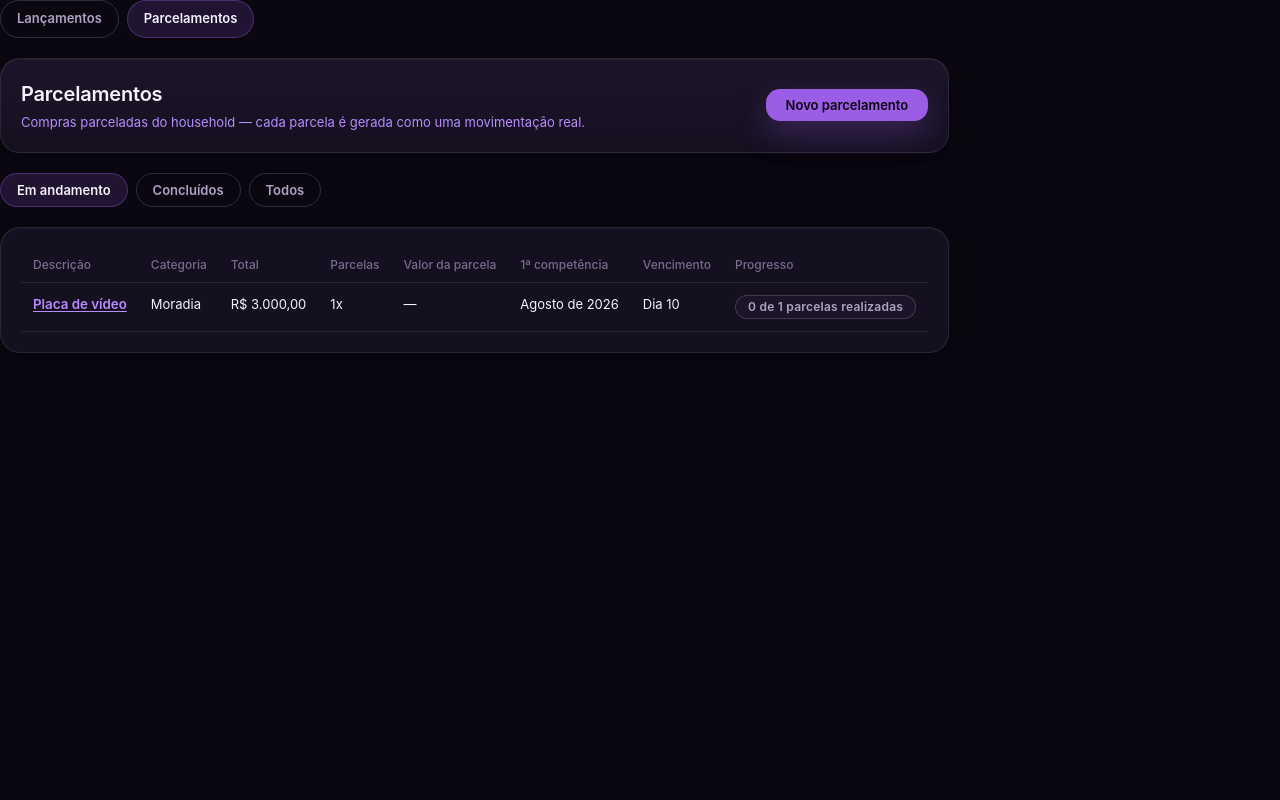
Test case: InstallmentPlansPage — realizar parcela a partir do detalhe do parcelamento (integração Parcelamentos ↔ Lançamentos) › parcela de competência diferente da atualmente exibida (setembro, com a página em julho) pode ser realizada normalmente
Click the button "Placa de vídeo". click: click(80, 304)
box: [33,296,127,312]
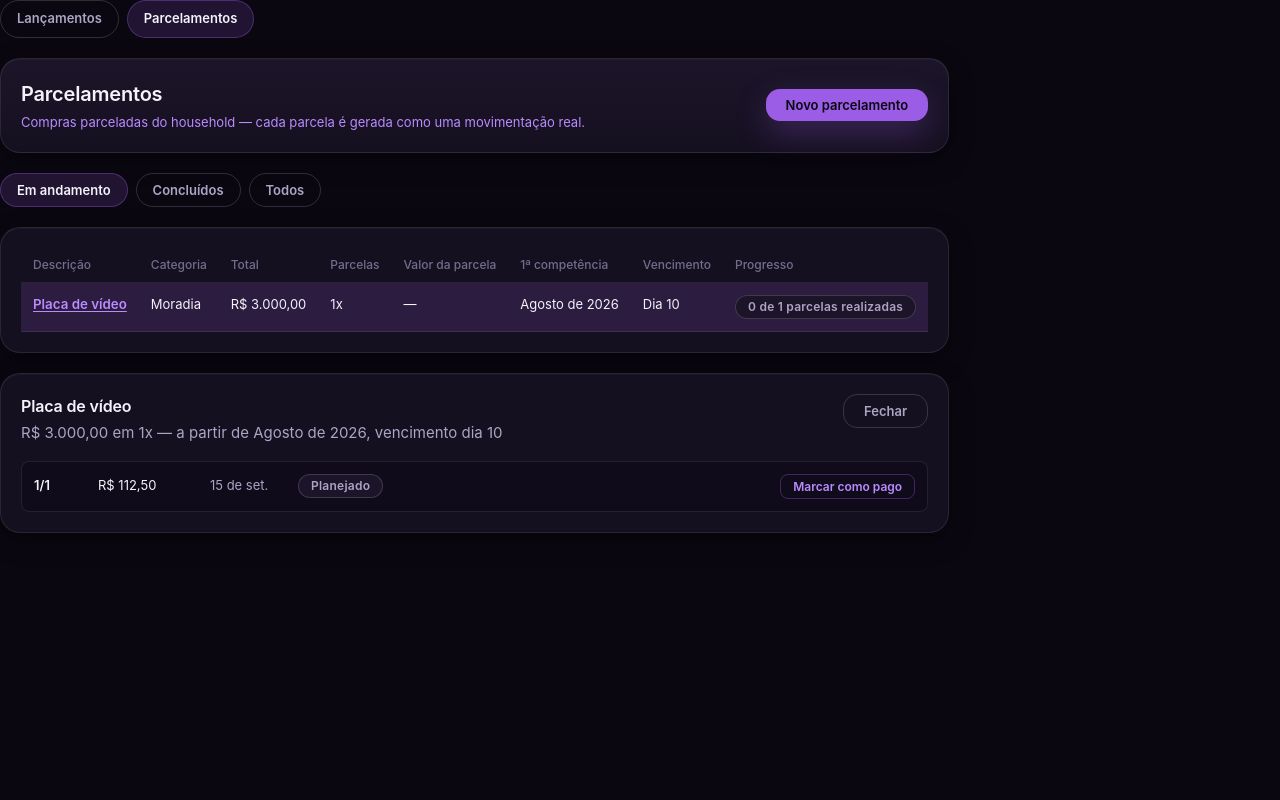
Result: the button with aria-label "Marcar parcela 1 de 1 como paga" is shown
Click the button with aria-label "Marcar parcela 1 de 1 como paga". click: click(848, 486)
box: [780,474,915,498]
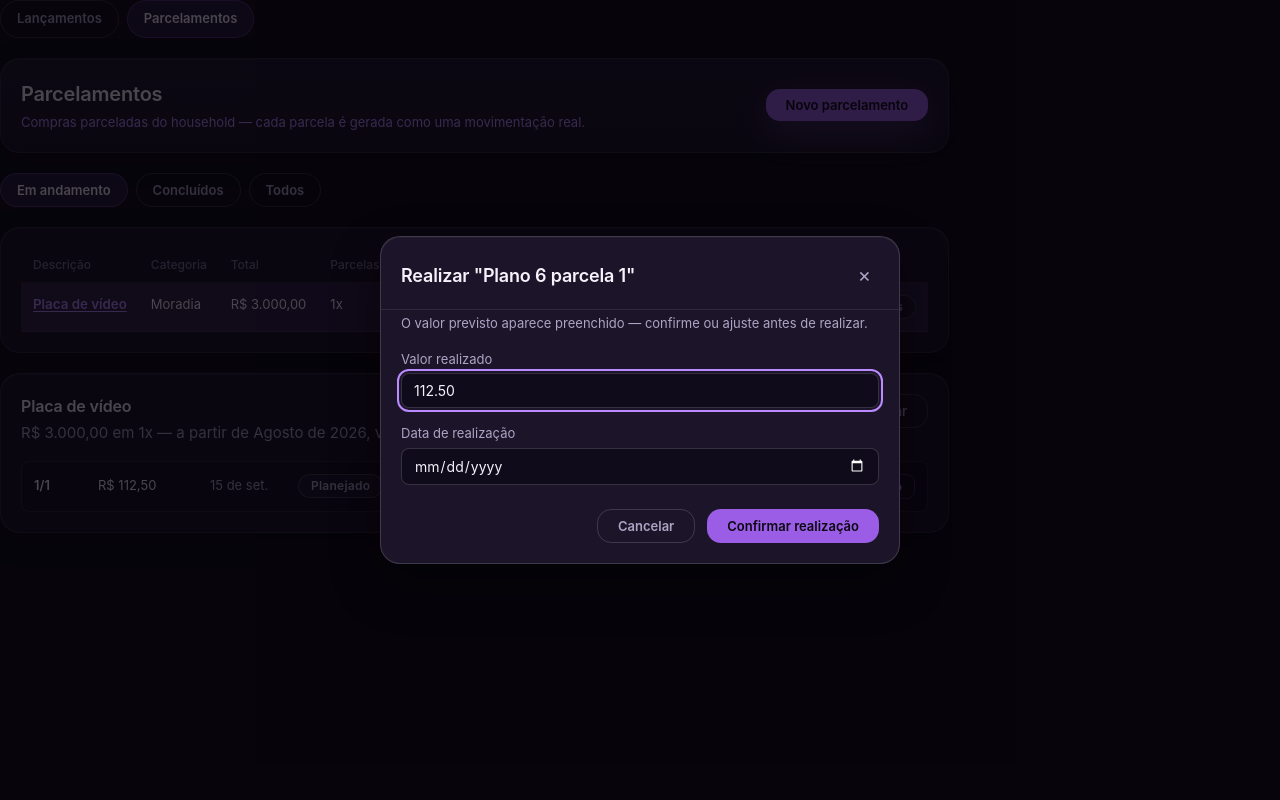
Type "2026-09-15" into the date field labelled "Data de realização". click: (640, 466)
box: [401,448,879,485]
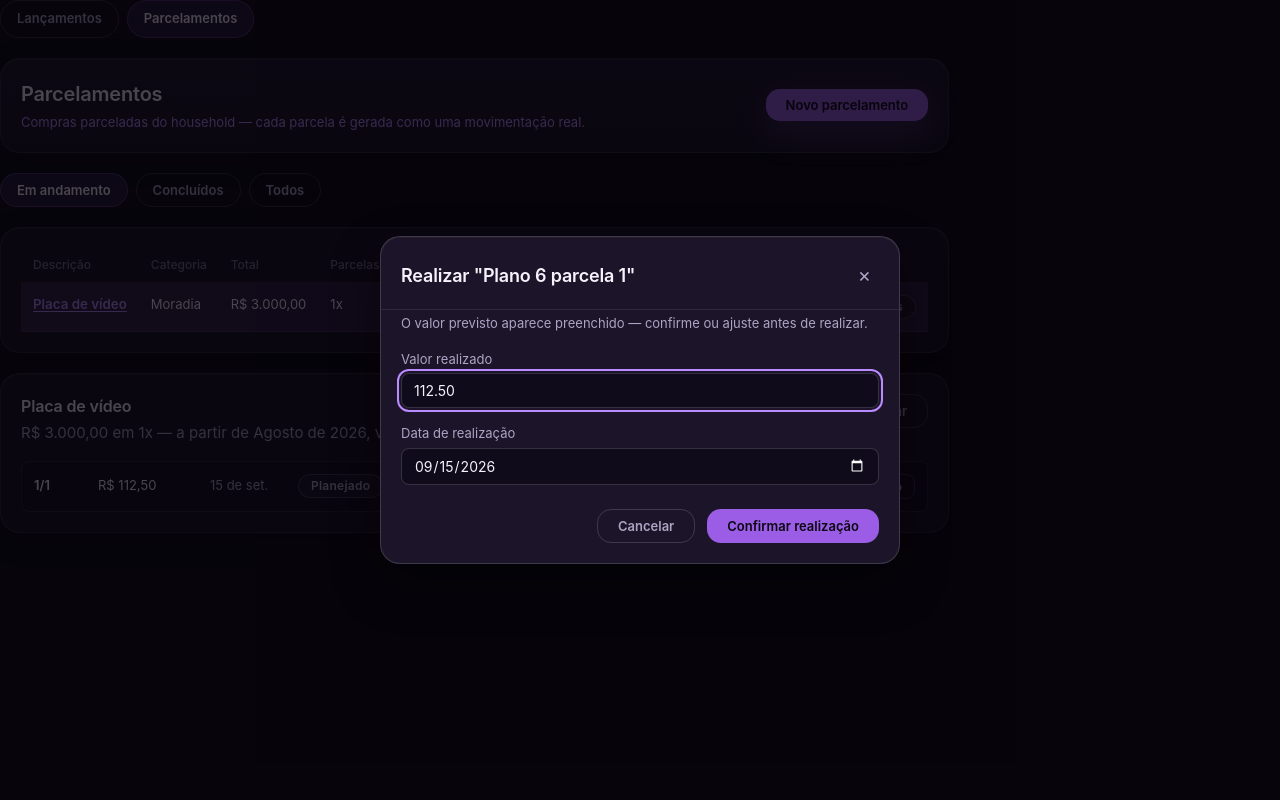
Click the button "Confirmar realização". click: click(793, 526)
box: [707,509,879,543]
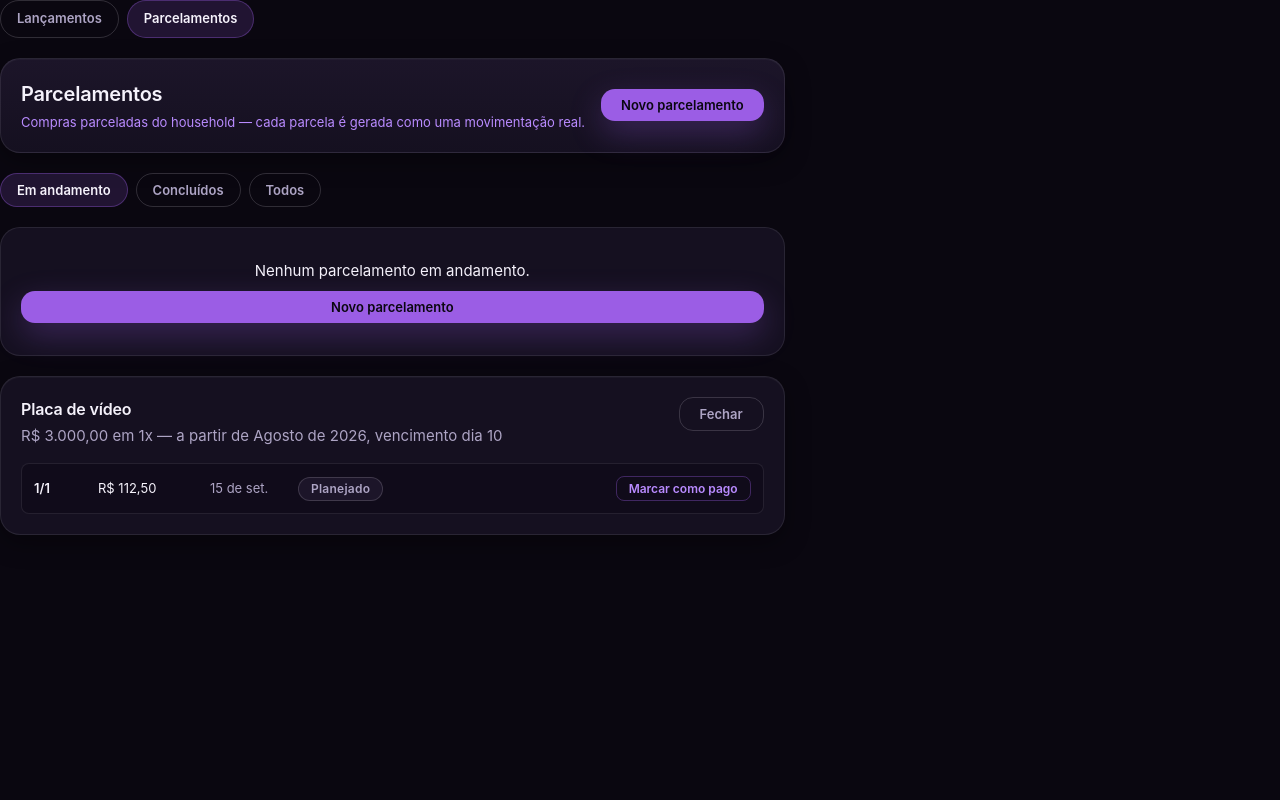
Result: the dialog is gone
